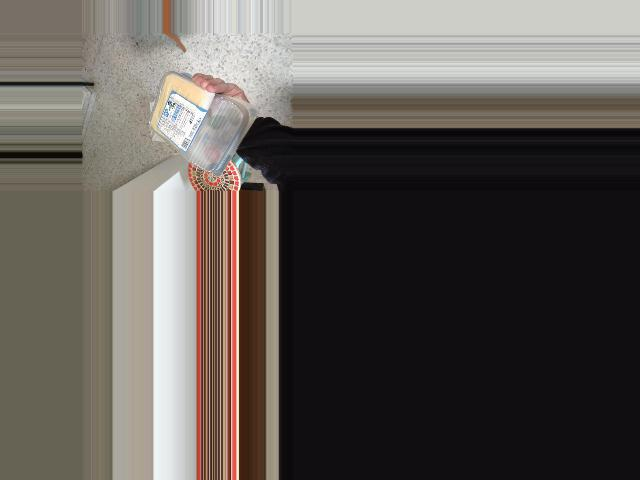cheese: (139, 83, 245, 177)
